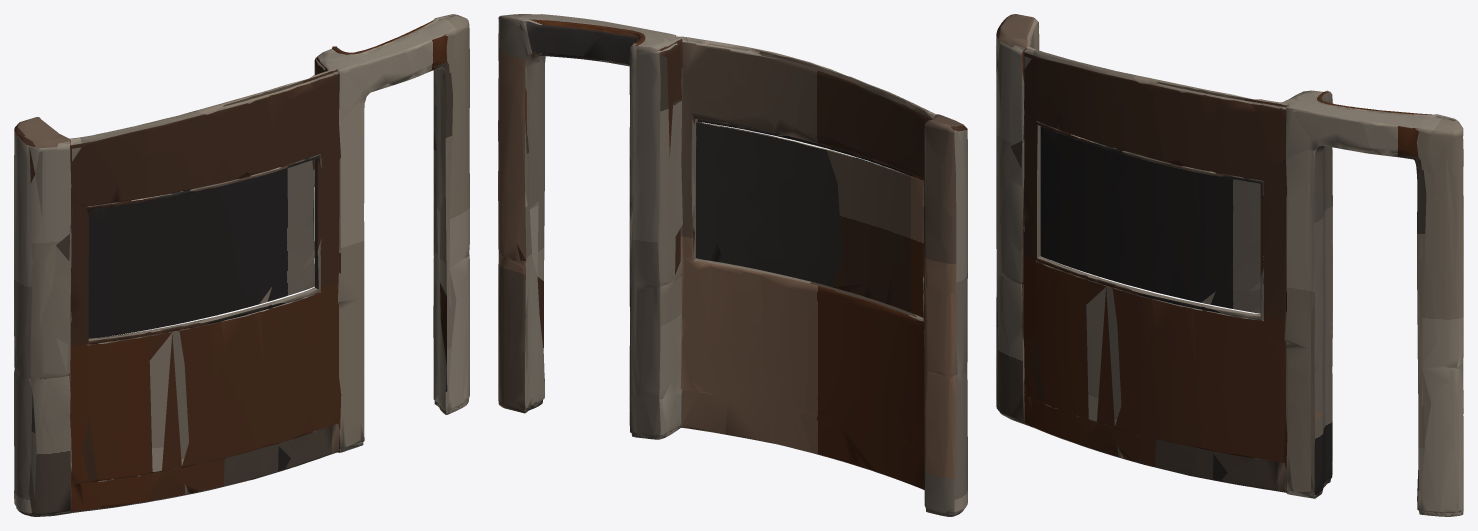
The model's file is cab_bulkhead.glb.
3 renders of one model, left to right at view 1: azimuth 30°, elevation 25°; view 2: azimuth 150°, elevation 25°; view 3: azimuth 330°, elevation 25°, orthographic.
Visible parts, largest first — view 1: LO; view 2: LO; view 3: LO.
Boxes of the visible parts, bbox=[...] form: LO: bbox=[14, 14, 469, 516]; LO: bbox=[498, 14, 967, 516]; LO: bbox=[996, 14, 1463, 516].
Bounding box in the file's own units: 2.4 × 1.95 × 0.3214.
1 material, 1 textured.
